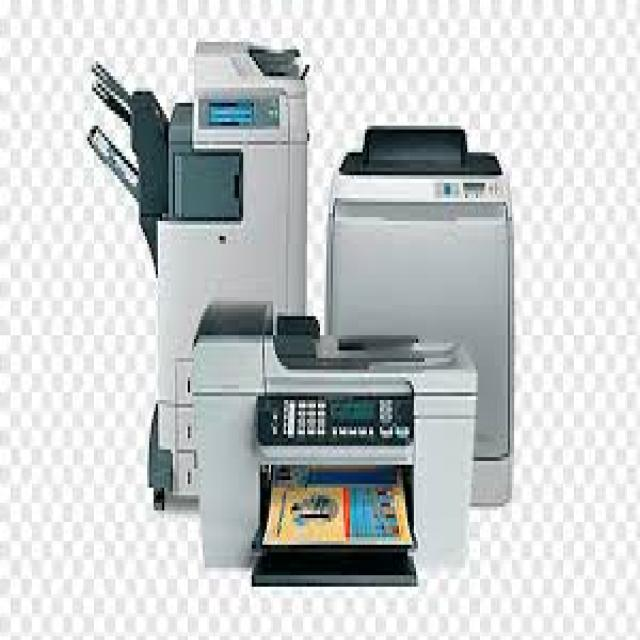printer: (86, 26, 518, 604)
